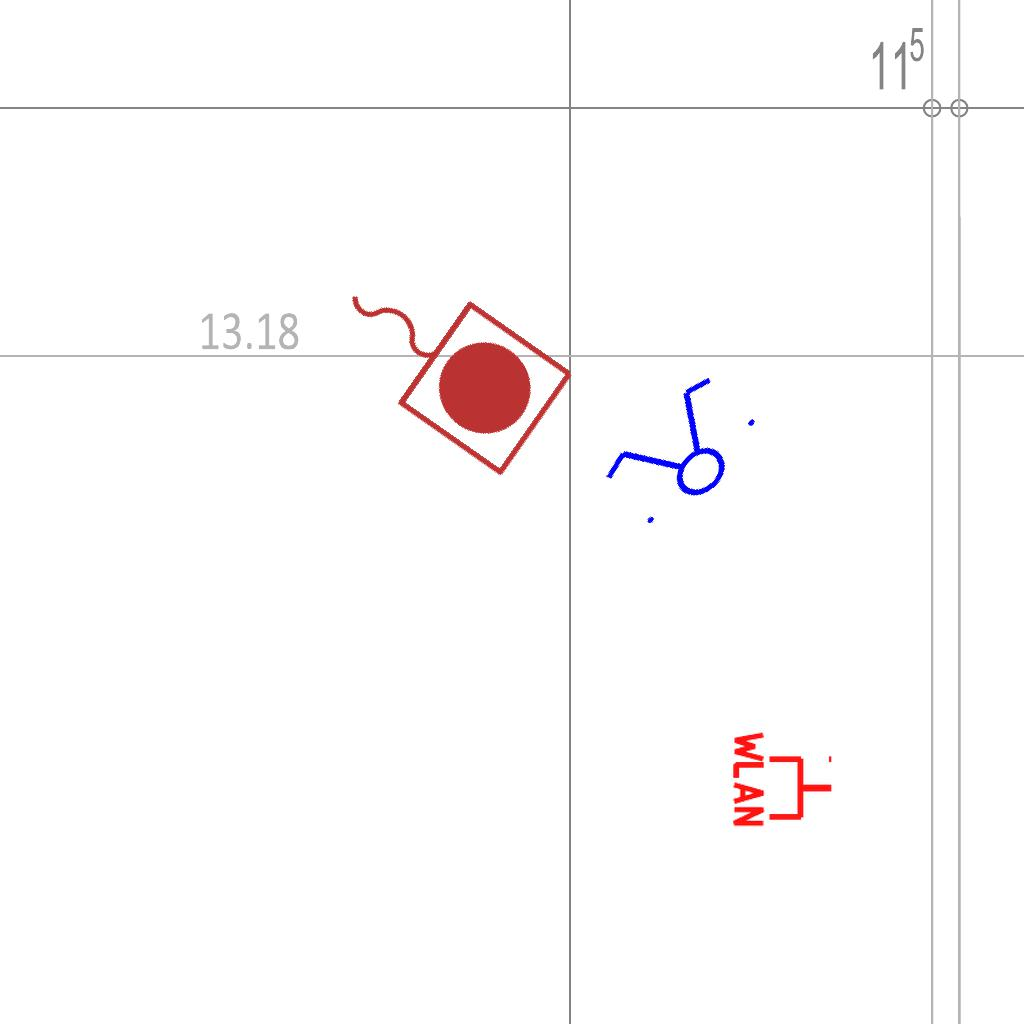Serienschalter: (588, 361, 776, 547)
WLAN: (731, 727, 836, 831)
Zugtaster: (303, 229, 587, 487)
